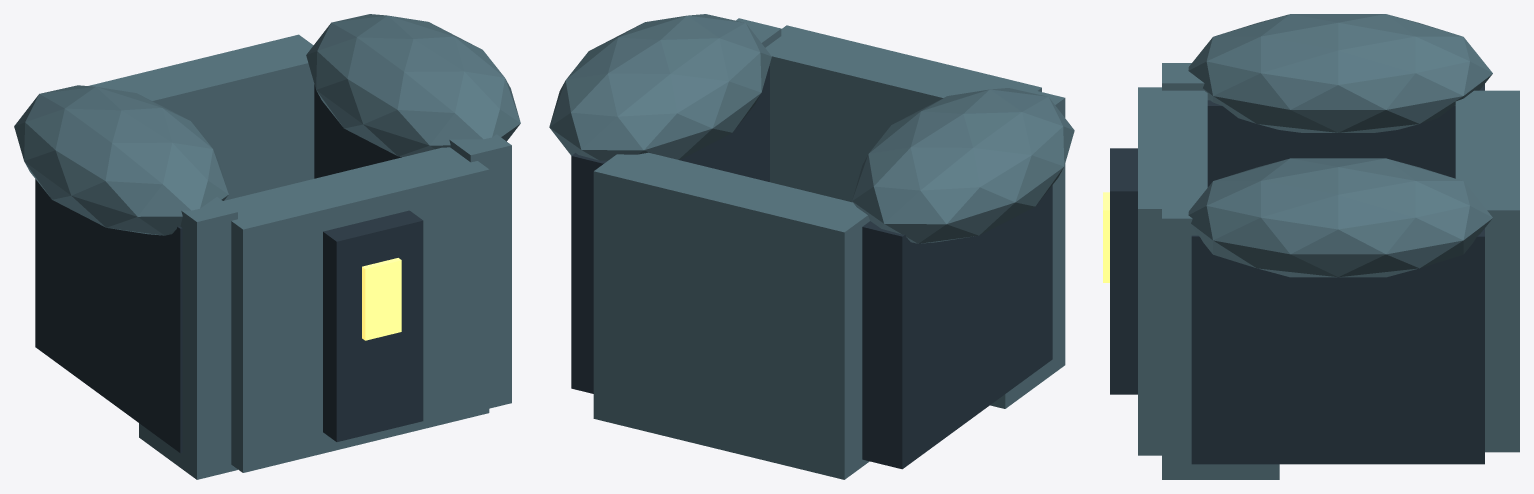
The model's file is reinforced_armor_worn.glb.
3 views of the same model, side by side, from view 1: azimuth 30°, elevation 25°; view 2: azimuth 150°, elevation 25°; view 3: azimuth 270°, elevation 25° (orthographic). The views are drawn at different scales.
Parts seen in each view (by area): view 1: Chest plate, Side plate, Reinforced shoulder, Reinforced shoulder.001, Back plate, Sternum guard, Outer brace, Outer brace.001, Side plate.001, Guard marking; view 2: Back plate, Side plate, Reinforced shoulder, Reinforced shoulder.001, Chest plate, Side plate.001, Outer brace, Outer brace.001; view 3: Side plate.001, Reinforced shoulder.001, Reinforced shoulder, Back plate, Chest plate, Side plate, Outer brace.001, Sternum guard, Outer brace, Guard marking.
Part boxes in pixels (x1,y1,x2,y2): Chest plate: (223,147,489,472); Side plate: (35,179,182,453); Reinforced shoulder: (14,85,228,235); Reinforced shoulder.001: (306,14,520,157); Back plate: (89,34,314,200); Sternum guard: (323,210,423,441); Outer brace: (139,197,237,479); Outer brace.001: (449,134,511,408); Side plate.001: (314,84,401,178); Guard marking: (362,258,401,340); Back plate: (593,152,869,479); Side plate: (862,185,1052,469); Reinforced shoulder: (852,88,1074,243); Reinforced shoulder.001: (549,14,771,160); Chest plate: (765,25,1041,202); Side plate.001: (571,65,769,393); Outer brace: (990,87,1065,408); Outer brace.001: (736,18,781,47); Side plate.001: (1191,228,1484,464); Reinforced shoulder.001: (1188,158,1492,277); Reinforced shoulder: (1188,14,1492,132); Back plate: (1455,90,1519,452); Chest plate: (1138,87,1207,455); Side plate: (1207,84,1484,187); Outer brace.001: (1162,198,1279,479); Sternum guard: (1110,148,1137,394); Outer brace: (1162,63,1209,100); Guard marking: (1103,192,1109,282).
Bounding box in the file's own units: 0.9634 × 0.635 × 0.7805.
